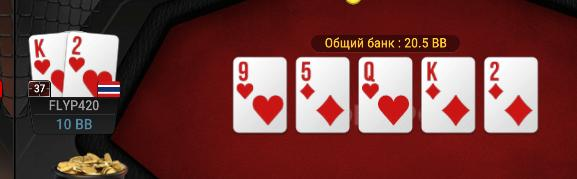2d: (485, 57, 538, 133)
2h: (65, 30, 119, 98)
5d: (297, 58, 350, 132)
9h: (234, 57, 287, 131)
Kd: (422, 57, 475, 132)
Kh: (28, 34, 65, 97)
Qh: (359, 57, 412, 132)
